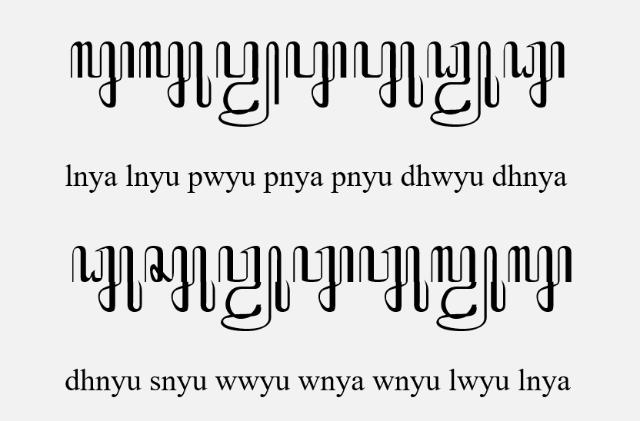dhny: (503, 40, 565, 108)
dhnyu: (72, 245, 142, 313)
dhwyu: (426, 41, 499, 127)
lny: (70, 41, 134, 109), (508, 245, 572, 312)
lnyu: (138, 41, 212, 109)
lwyu: (430, 244, 506, 332)
pny: (285, 41, 347, 109)
pnyu: (352, 40, 424, 108)
pwyu: (215, 40, 279, 128)
snyu: (144, 245, 216, 313)
wny: (292, 245, 354, 313)
wnyu: (358, 245, 430, 313)
wwyu: (217, 245, 291, 332)
